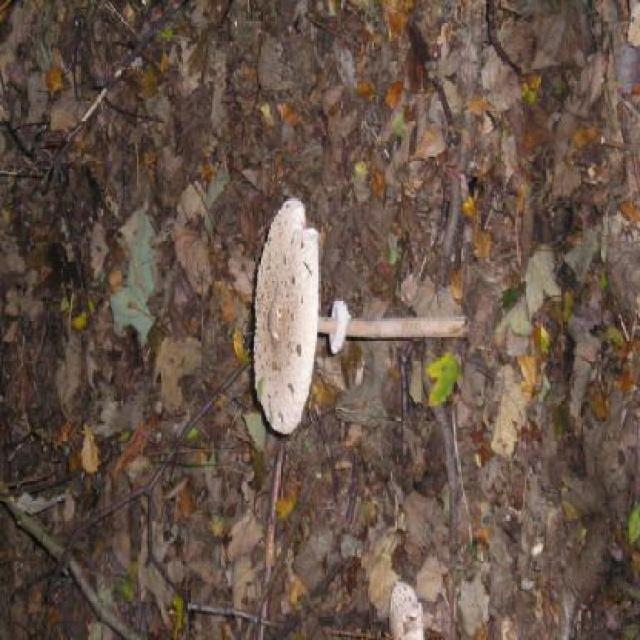Mushroom: (233, 195, 422, 467), (386, 581, 425, 640)
